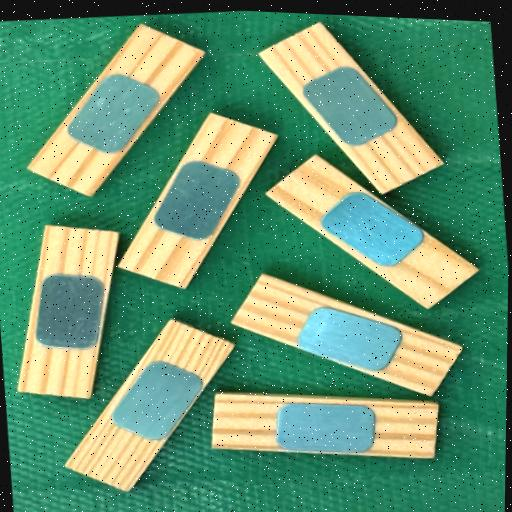objects: (257, 8, 444, 209), (266, 144, 478, 319), (27, 9, 204, 210), (66, 305, 235, 506), (116, 100, 278, 305), (233, 270, 463, 401), (17, 221, 119, 402), (211, 394, 440, 459)
